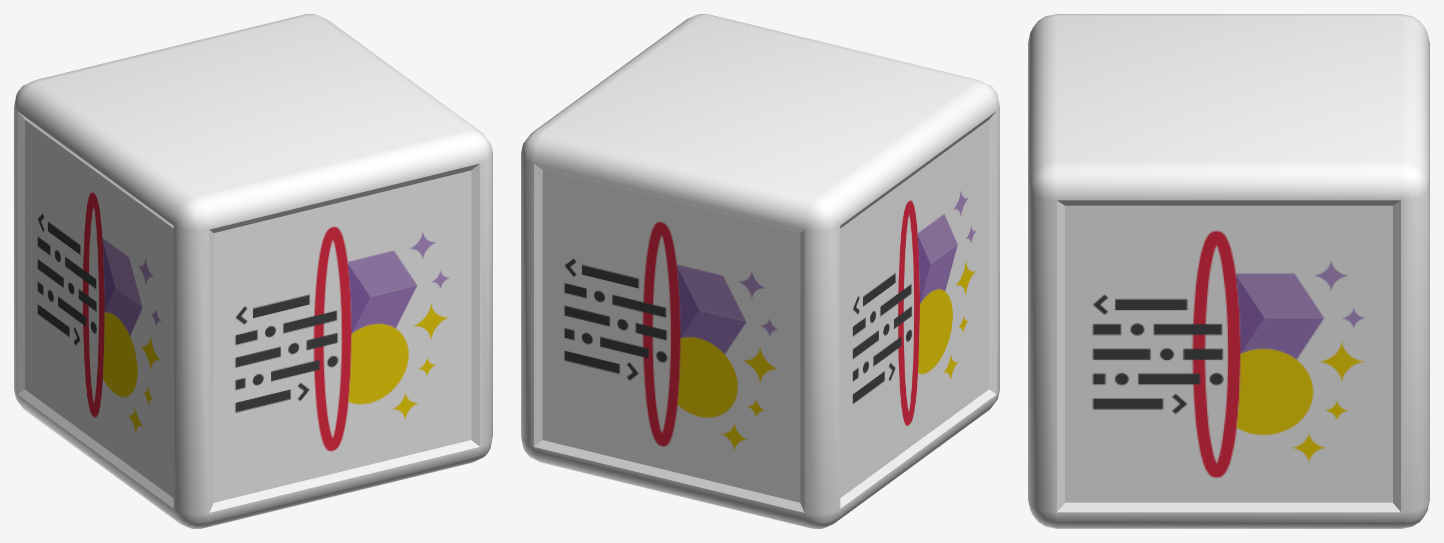
The model's file is MagicScriptCube.glb.
3 renders of one model, left to right at view 1: azimuth 30°, elevation 25°; view 2: azimuth 150°, elevation 25°; view 3: azimuth 270°, elevation 25°, orthographic. The views are drawn at different scales.
Parts seen in each view (by area): view 1: Cube; view 2: Cube; view 3: Cube.
Boxes of the visible parts, box(x1,y1,x2,y2) form: Cube: box(14, 14, 492, 528); Cube: box(521, 14, 999, 528); Cube: box(1028, 14, 1429, 528).
Size of the model in its own units: 0.3026 by 0.3026 by 0.3026.
1 material, 1 textured.
